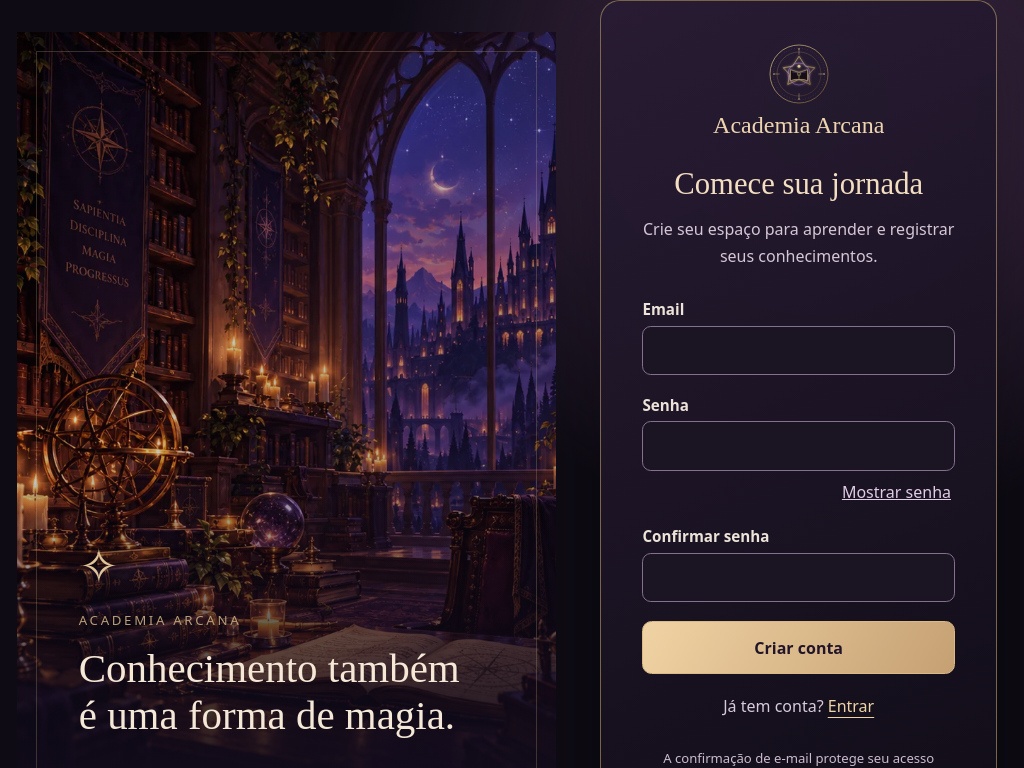
Test case: AuthForm › does not redirect signup when email confirmation is pending
Type "student@example.com" into the field labelled "Email" at (799, 351), box [642, 326, 955, 375]
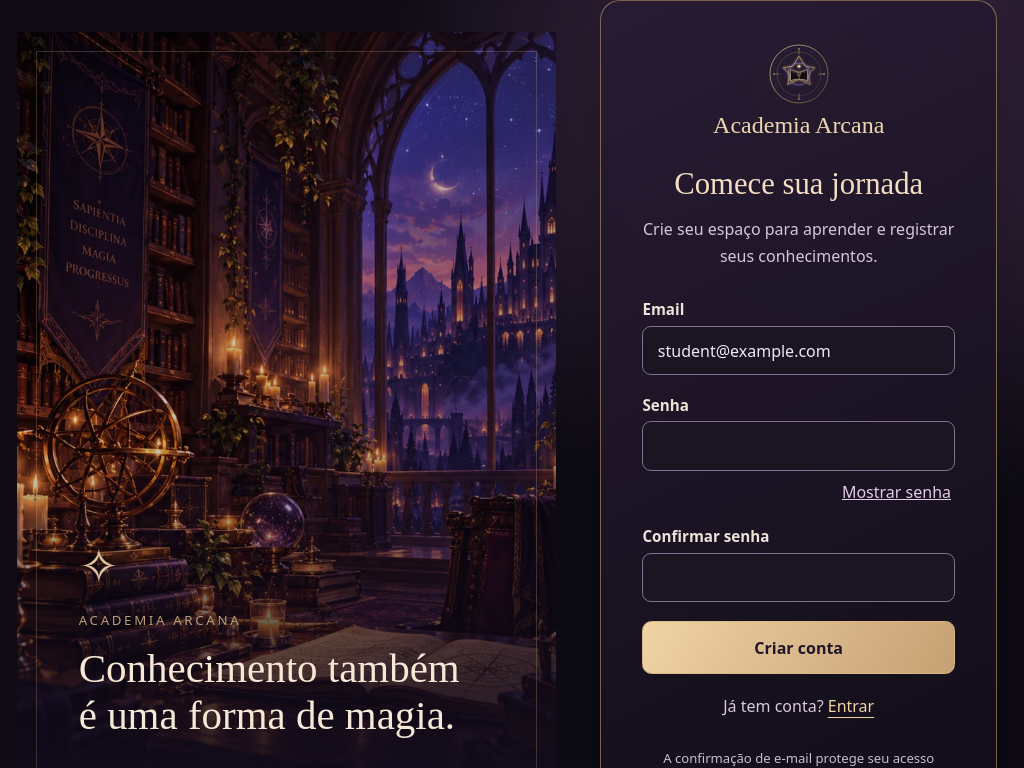
Type "secure-password" into the password field labelled "Senha" at (799, 446), box [642, 421, 955, 471]
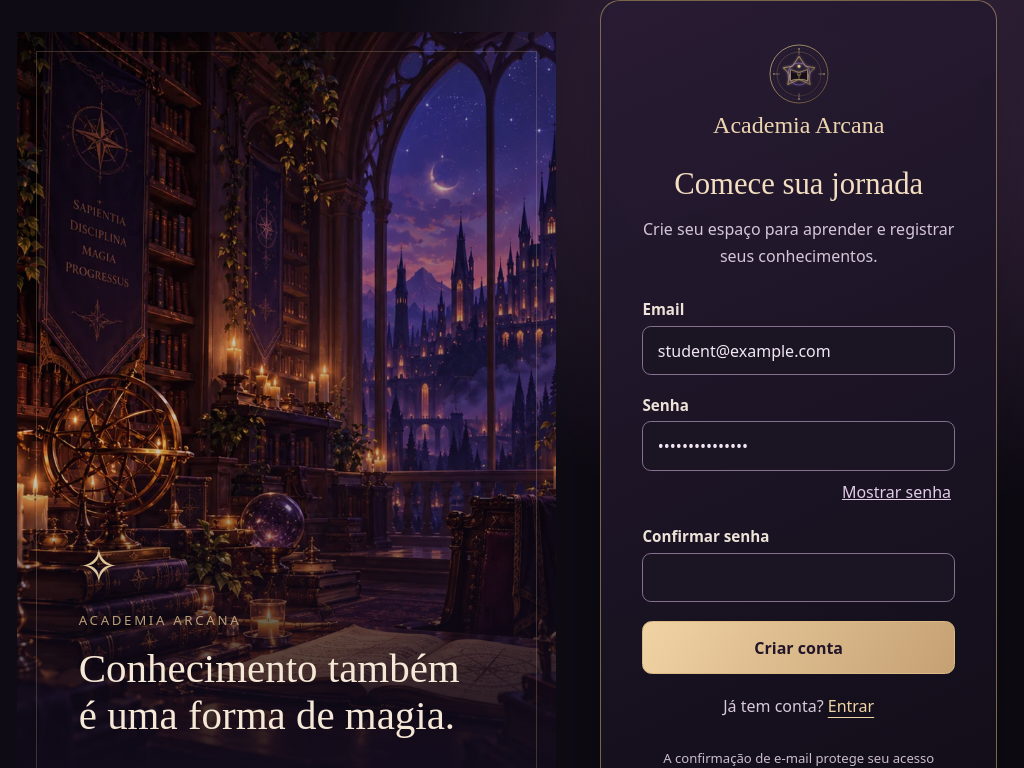
Type "secure-password" into the password field labelled "Confirmar senha" at (799, 577), box [642, 552, 955, 602]
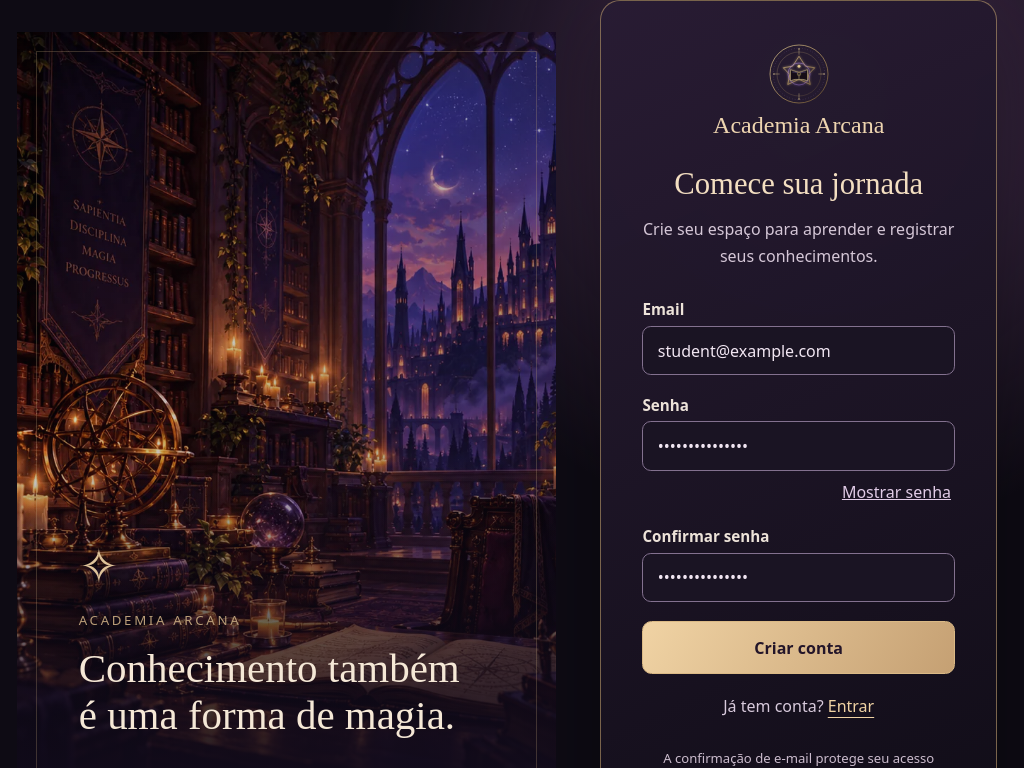
Click the button "Criar conta" at (799, 648), box [642, 621, 955, 674]
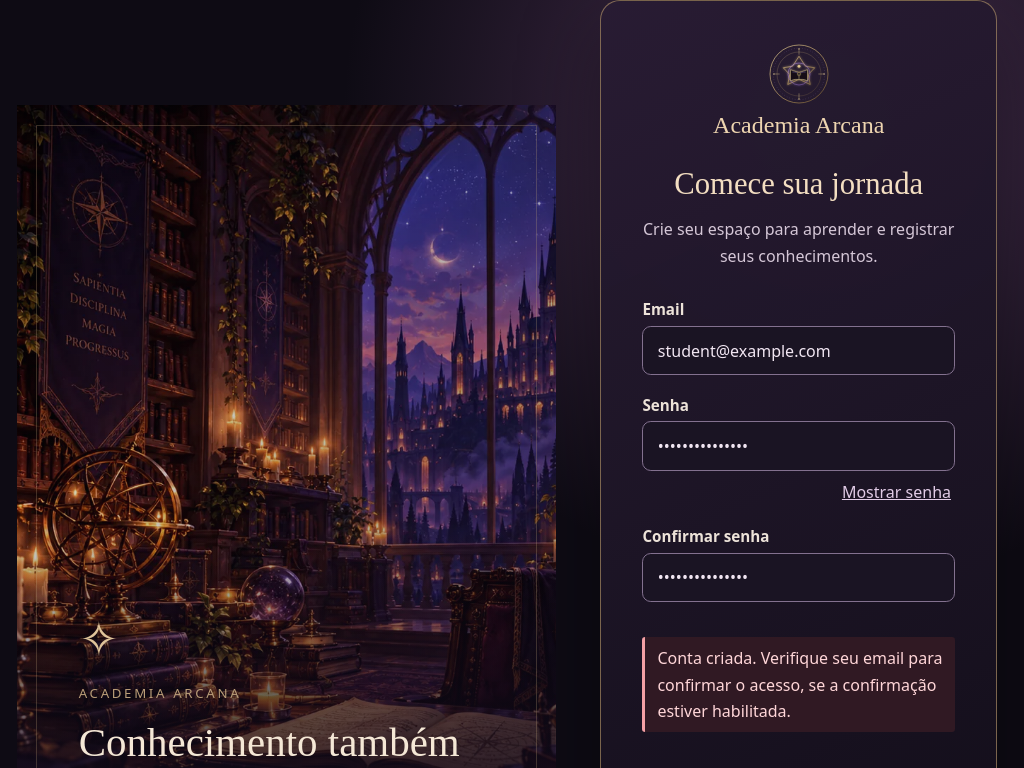
Expected: the message shows "Verifique seu email para confirmar o acesso", [657, 647, 942, 722]
